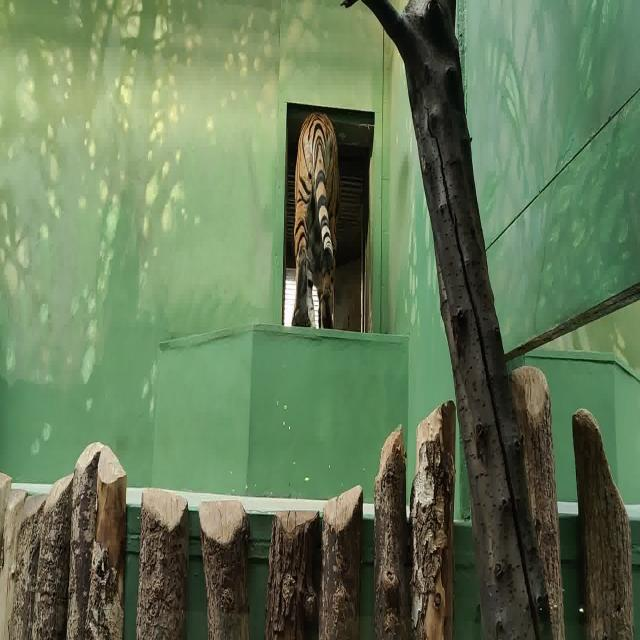tiger: (292, 112, 342, 330)
